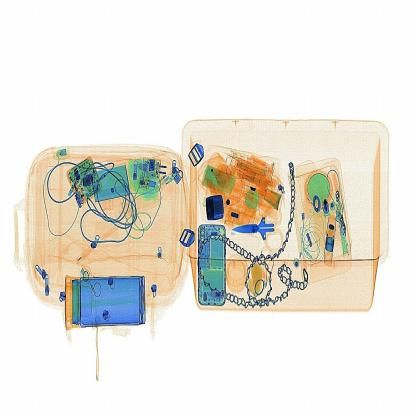gun: (230, 203, 287, 252)
